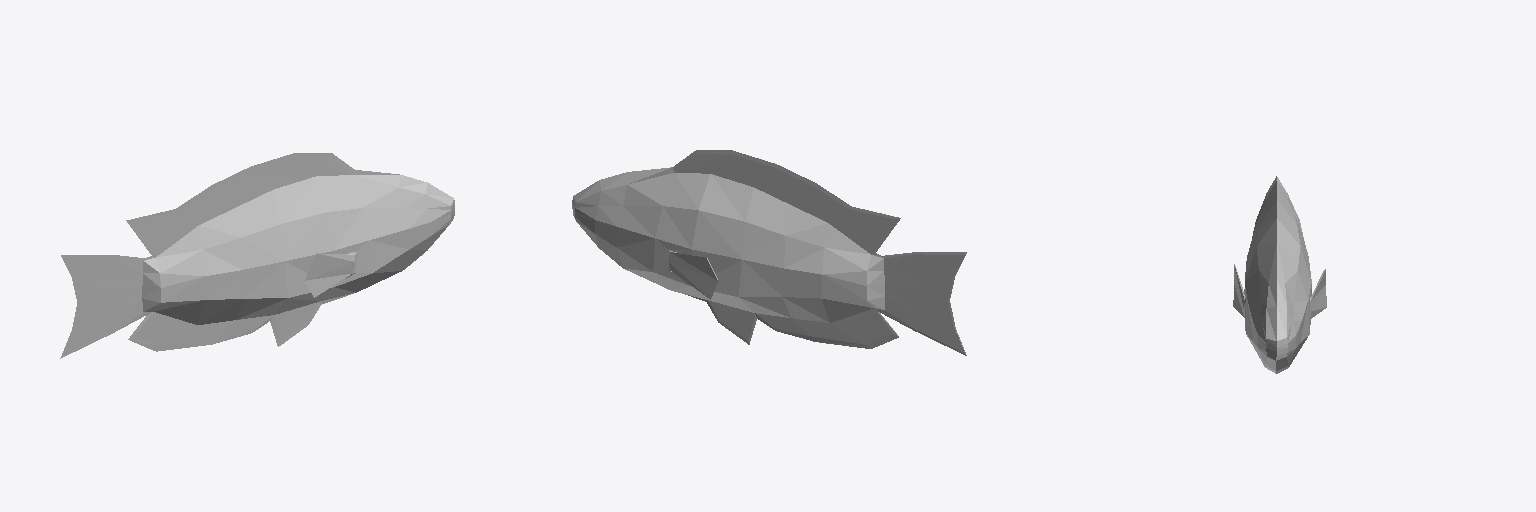
Rendered from fish.obj.
The picture shows the model from 3 angles: view 1: azimuth 30°, elevation 25°; view 2: azimuth 150°, elevation 25°; view 3: azimuth 270°, elevation 25°; orthographic projection.
Visible parts, largest first — view 1: FISH_Plane; view 2: FISH_Plane; view 3: FISH_Plane.
Boxes of the visible parts, x1,y1,x2,y2 form: FISH_Plane: [60, 153, 454, 358]; FISH_Plane: [572, 150, 966, 355]; FISH_Plane: [1233, 176, 1326, 373].
Bounding box in the file's own units: 9.92 × 4.58 × 2.03.